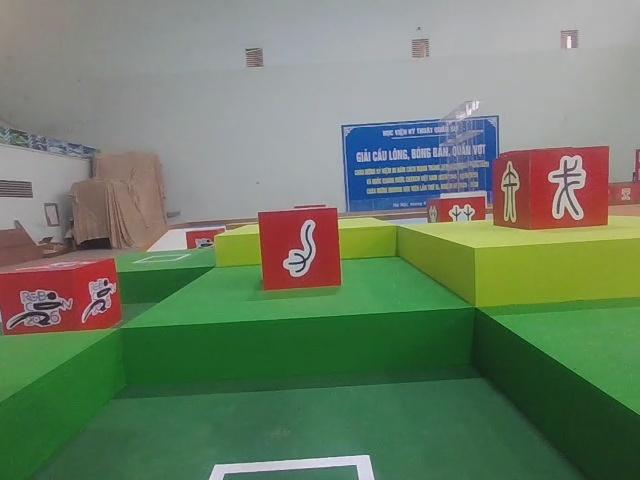R1: (0, 253, 123, 340)
R2 Fake: (489, 143, 613, 232)
R2 Real: (253, 202, 346, 295)
